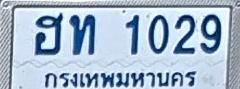0: (148, 14, 169, 54)
1: (125, 14, 139, 55)
2: (173, 14, 195, 54)
9: (200, 13, 221, 53)
A23: (70, 14, 96, 55)
A44: (34, 12, 63, 56)
BKK: (40, 66, 201, 89)
